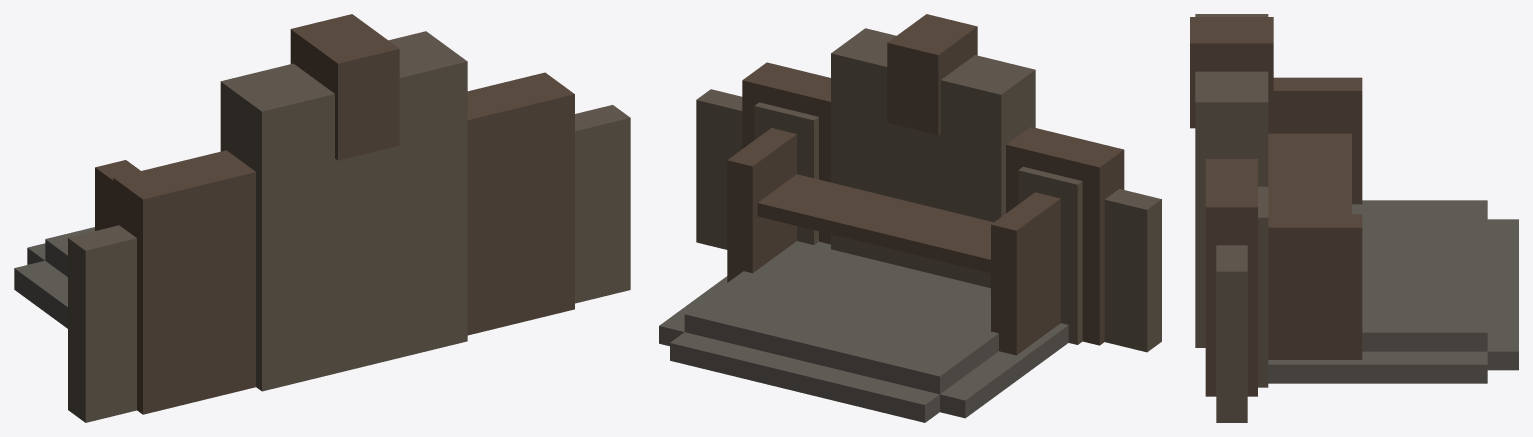
Rendered from bench.dae.
The picture shows the model from 3 angles, left to right: view 1: azimuth 30°, elevation 25°; view 2: azimuth 150°, elevation 25°; view 3: azimuth 270°, elevation 25°; orthographic projection. The views are drawn at different scales.
Parts seen in each view (by area): view 1: $dummy_node (×3); view 2: $dummy_node (×3); view 3: $dummy_node (×3).
Boxes of the visible parts, box(x1,y1,x2,y2) form: $dummy_node (×3): box(14, 14, 630, 422); $dummy_node (×3): box(659, 14, 1161, 422); $dummy_node (×3): box(1190, 14, 1518, 422).
Size of the model in its own units: 5.3 by 2.9 by 3.15.
